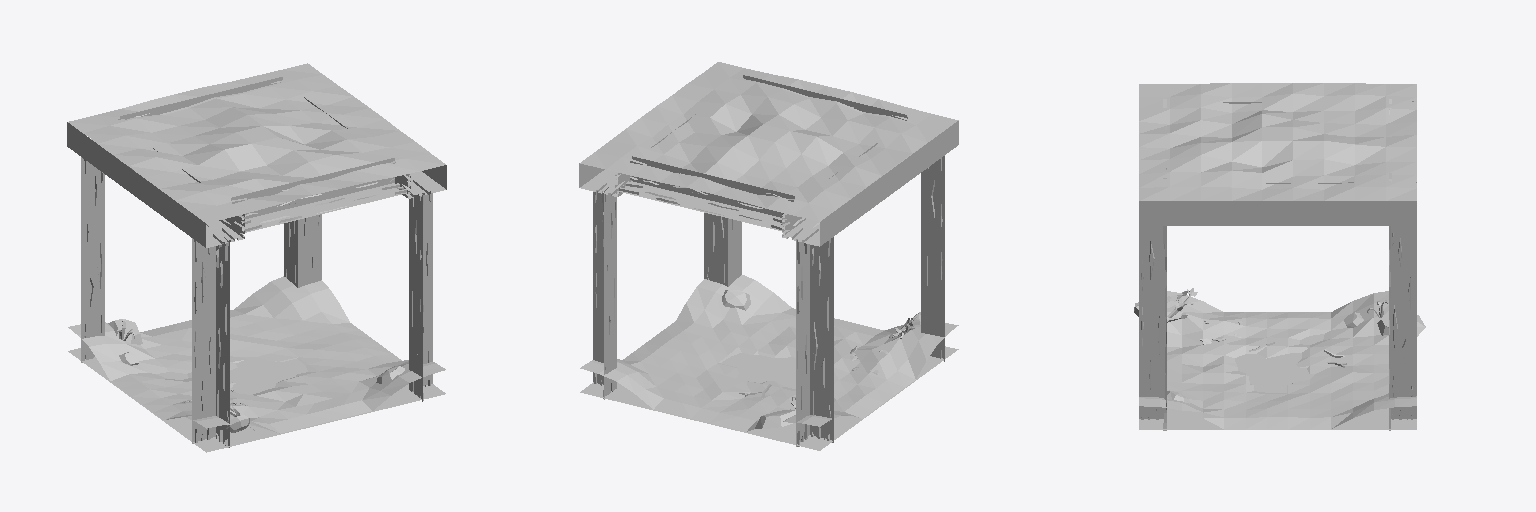
File: Basement_Var1.obj
3 renders of one model, left to right at view 1: azimuth 30°, elevation 25°; view 2: azimuth 150°, elevation 25°; view 3: azimuth 270°, elevation 25°, orthographic.
Parts seen in each view (by area): view 1: Basement_Var1; view 2: Basement_Var1; view 3: Basement_Var1.
Boxes of the visible parts, x1=… form: Basement_Var1: x1=67, y1=63, x2=446, y2=452; Basement_Var1: x1=579, y1=62, x2=958, y2=450; Basement_Var1: x1=1134, y1=83, x2=1425, y2=430.
Size of the model in its own units: 4 by 3.9 by 4.21.